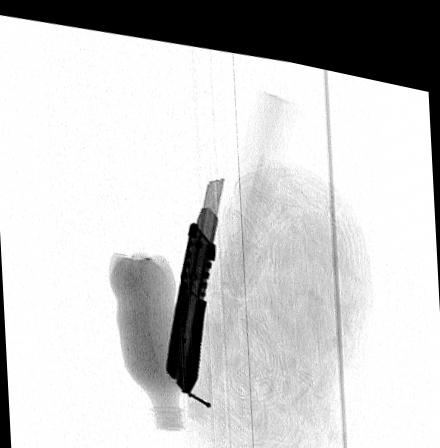Knife: (163, 169, 225, 386)
